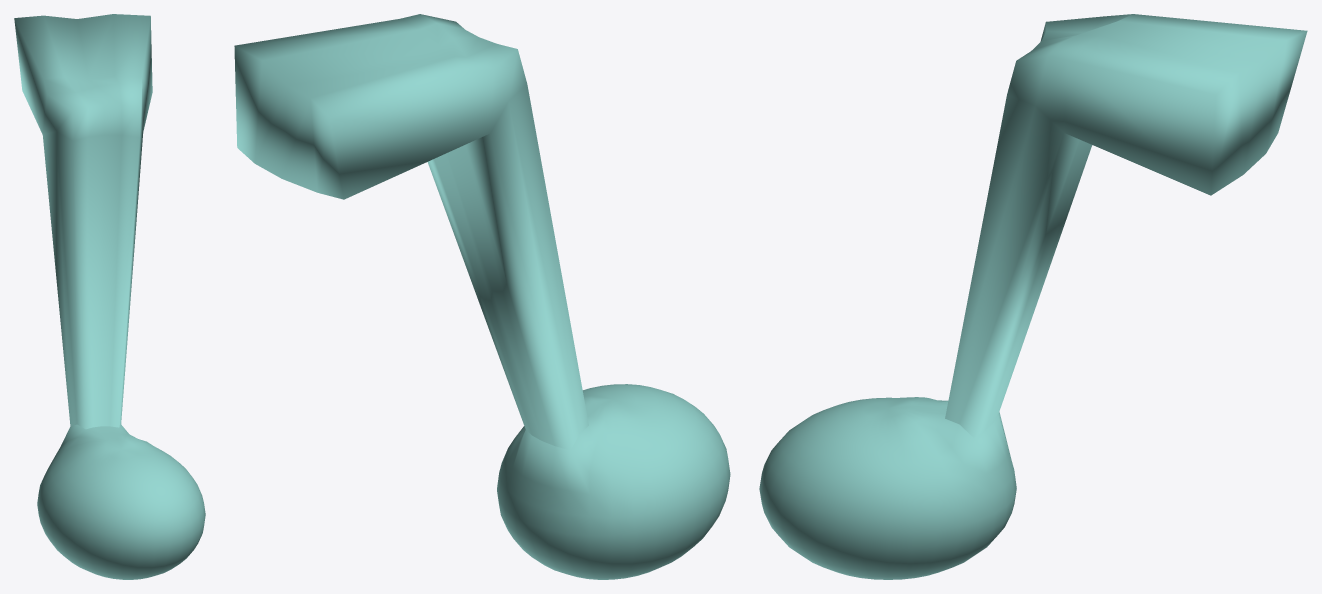
The model's file is simpleKeyLight.gltf.
3 renders of one model, left to right at view 1: azimuth 30°, elevation 25°; view 2: azimuth 150°, elevation 25°; view 3: azimuth 270°, elevation 25°, orthographic. The views are drawn at different scales.
Parts seen in each view (by area): view 1: simpleKey; view 2: simpleKey; view 3: simpleKey.
Boxes of the visible parts, <box> form: simpleKey: <box>14,14,205,579</box>; simpleKey: <box>234,14,730,579</box>; simpleKey: <box>759,14,1307,579</box>.
Size of the model in its own units: 2.66 by 4.93 by 4.26.
